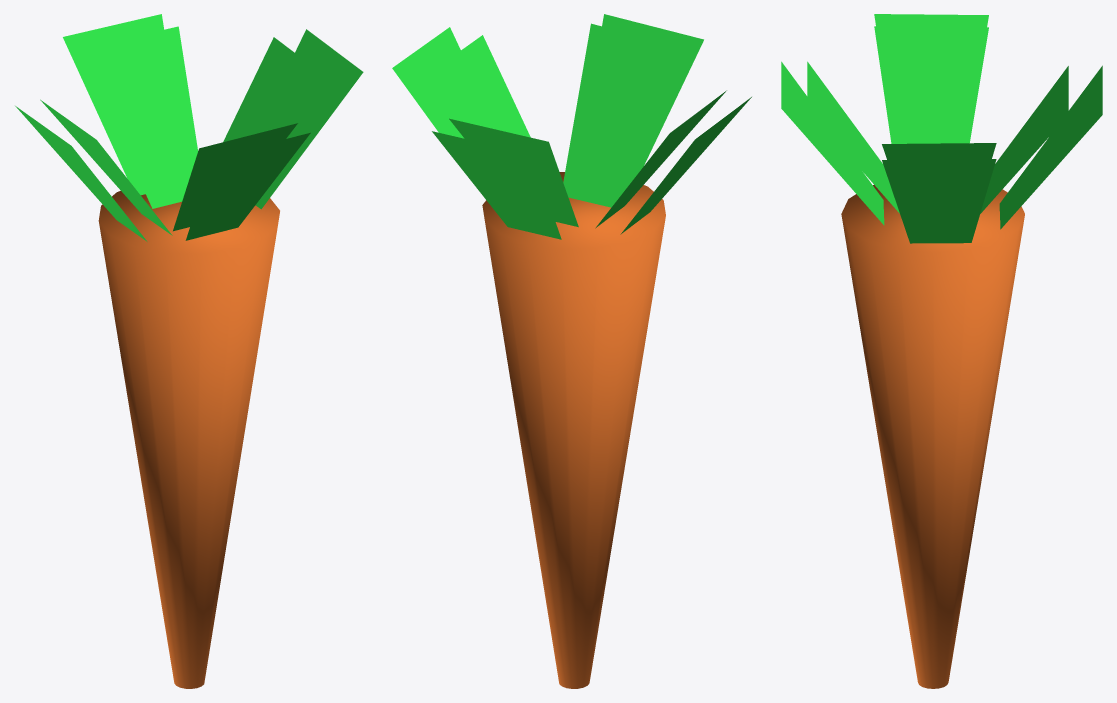
File: carrot_stage_3.glb
The picture shows the model from 3 angles, left to right: view 1: azimuth 30°, elevation 25°; view 2: azimuth 150°, elevation 25°; view 3: azimuth 270°, elevation 25°; orthographic projection.
Parts seen in each view (by area): view 1: Cone.001; view 2: Cone.001; view 3: Cone.001.
Boxes of the visible parts, x1,y1,x2,y2 form: Cone.001: (15, 14, 363, 688); Cone.001: (392, 14, 751, 688); Cone.001: (781, 14, 1102, 688).
Bounding box in the file's own units: 0.4698 × 0.9021 × 0.4404.
